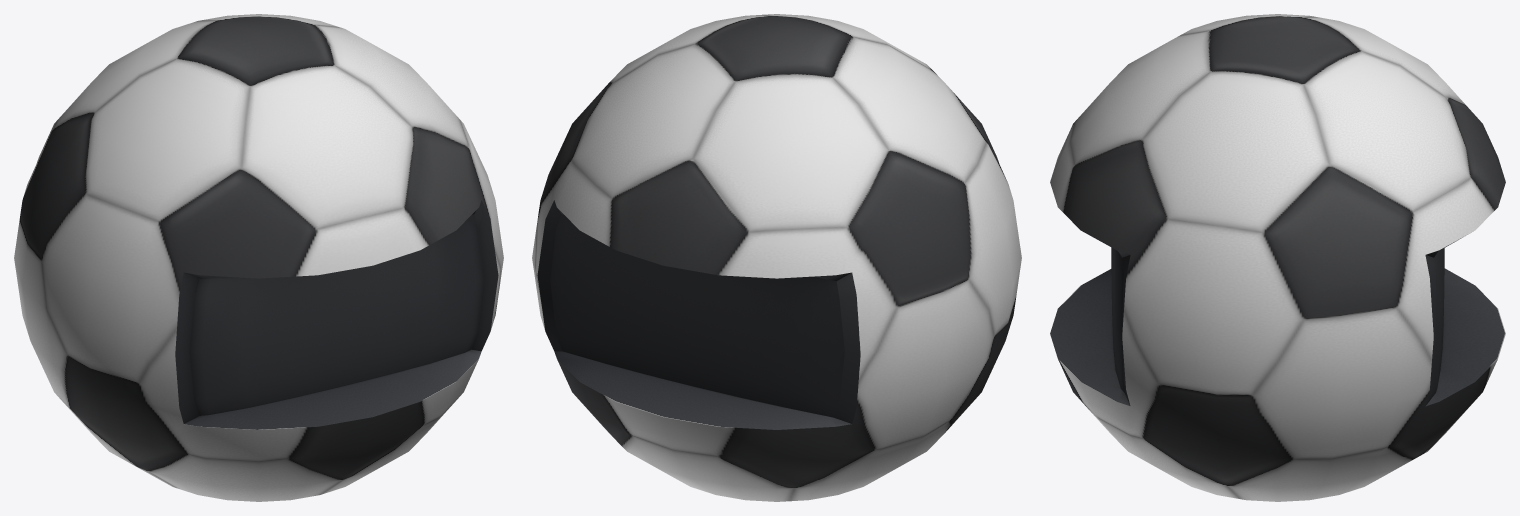
The model's file is bomb_ball.fbx.
3 renders of one model, left to right at view 1: azimuth 30°, elevation 25°; view 2: azimuth 150°, elevation 25°; view 3: azimuth 270°, elevation 25°, orthographic.
Visible parts, largest first — view 1: Sphere.002; view 2: Sphere.002; view 3: Sphere.002.
Boxes of the visible parts, x1=… form: Sphere.002: x1=14, y1=14, x2=503, y2=501; Sphere.002: x1=532, y1=14, x2=1021, y2=501; Sphere.002: x1=1050, y1=14, x2=1505, y2=501.
Size of the model in its own units: 189 by 189 by 176.
